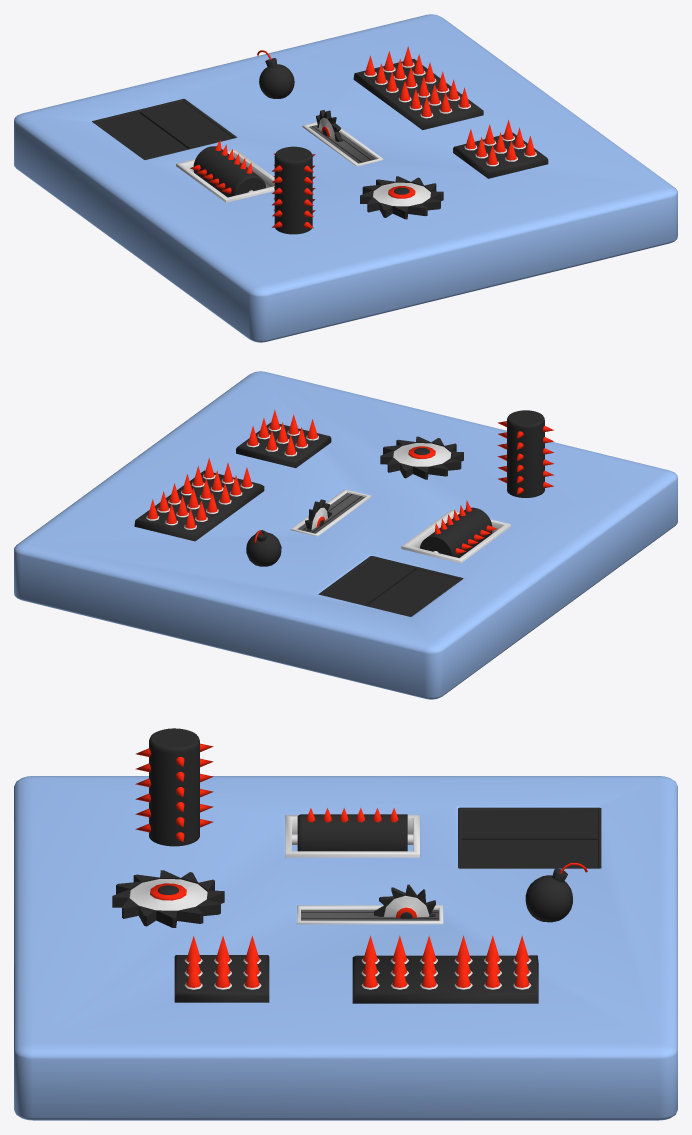
The model's file is Hyper Casual Trapss.fbx.
The picture shows the model from 3 angles, top to bottom: view 1: azimuth 30°, elevation 25°; view 2: azimuth 150°, elevation 25°; view 3: azimuth 270°, elevation 25°; orthographic projection. The views are drawn at different scales.
Parts seen in each view (by area): view 1: PlatformBG, CylinderObstacle, spike-obstacle.001, gear-base, spike-obstacle.003, CylinderObstacle.001, GroundDoor02, GroundDoor01, spike-obstacle, SpikeBase, spike-obstacle.002, SpiralBase (+3 smaller); view 2: PlatformBG, CylinderObstacle, spike-obstacle.001, gear-base, spike-obstacle.003, CylinderObstacle.001, GroundDoor02, GroundDoor01, spike-obstacle, SpiralBase, spike-obstacle.002, SpikeBase (+3 smaller); view 3: PlatformBG, spike-obstacle.001, CylinderObstacle, gear-base, CylinderObstacle.001, GroundDoor01, GroundDoor02, spike-obstacle, spike-obstacle.003, SpikeBase, Bomb, SpiralBase (+3 smaller).
Part boxes in pixels (x1,y1,x2,y2): PlatformBG: [14, 14, 677, 342]; CylinderObstacle: [272, 146, 315, 234]; spike-obstacle.001: [353, 59, 483, 130]; gear-base: [360, 176, 443, 219]; spike-obstacle.003: [365, 46, 469, 116]; CylinderObstacle.001: [190, 140, 265, 197]; GroundDoor02: [140, 101, 232, 148]; GroundDoor01: [96, 112, 187, 158]; spike-obstacle: [453, 132, 548, 178]; SpikeBase: [302, 122, 383, 166]; spike-obstacle.002: [465, 120, 535, 164]; SpiralBase: [176, 149, 274, 202]; PlatformBG: [14, 371, 677, 699]; CylinderObstacle: [497, 410, 554, 497]; spike-obstacle.001: [134, 470, 264, 541]; gear-base: [380, 436, 463, 479]; spike-obstacle.003: [147, 458, 252, 528]; CylinderObstacle.001: [420, 500, 497, 557]; GroundDoor02: [322, 558, 414, 605]; GroundDoor01: [367, 569, 458, 615]; spike-obstacle: [236, 422, 331, 468]; SpiralBase: [401, 509, 510, 563]; spike-obstacle.002: [248, 409, 317, 455]; SpikeBase: [290, 489, 371, 536]; PlatformBG: [14, 776, 677, 1120]; spike-obstacle.001: [352, 955, 538, 1003]; CylinderObstacle: [135, 728, 213, 846]; gear-base: [112, 870, 224, 927]; CylinderObstacle.001: [297, 808, 407, 851]; GroundDoor01: [462, 810, 597, 839]; GroundDoor02: [462, 840, 597, 867]; spike-obstacle: [174, 955, 269, 1002]; spike-obstacle.003: [363, 935, 529, 987]; SpikeBase: [297, 905, 443, 924]; Bomb: [525, 862, 587, 922]; SpiralBase: [285, 815, 419, 857].
Size of the model in its own units: 1650 by 467 by 1650.
